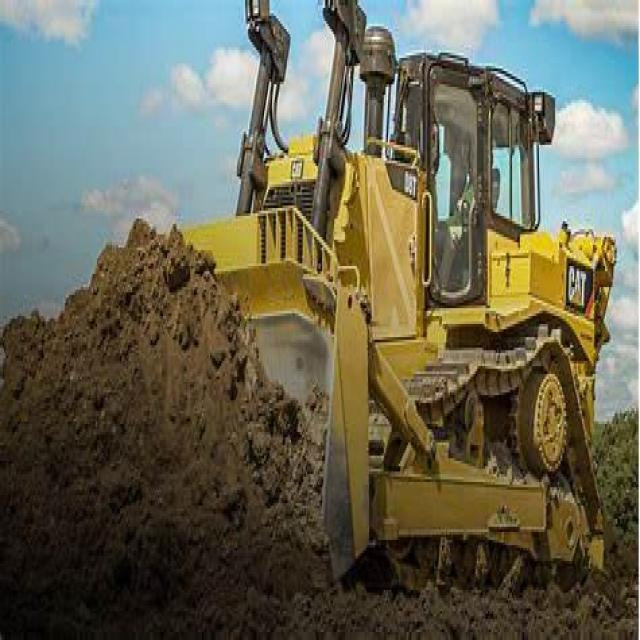Bulldozer: (140, 5, 616, 624)
